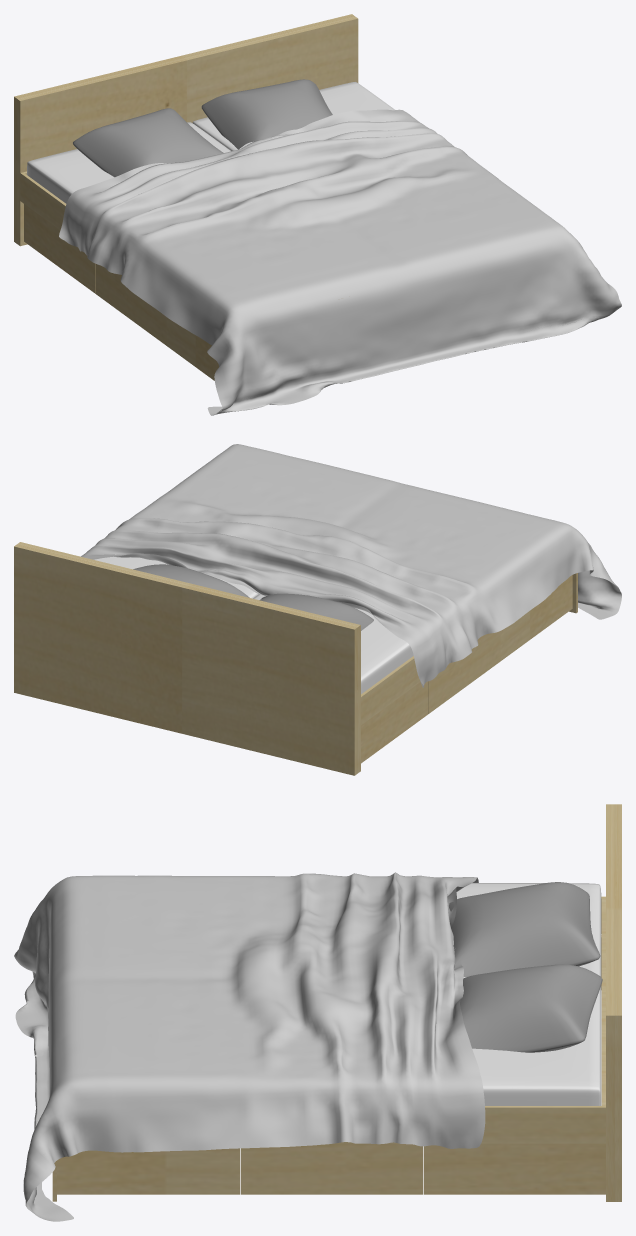
File: bedWithTexture.obj
The picture shows the model from 3 angles, top to bottom: view 1: azimuth 30°, elevation 25°; view 2: azimuth 150°, elevation 25°; view 3: azimuth 270°, elevation 25°; orthographic projection. The views are drawn at different scales.
Visible parts, largest first — view 1: blanket_Plane.000, bed_head_Plane.000, bed_frame_Cube.001, pillow_Cube.000, pillow.001_Cube.000, matress_Cube.000; view 2: blanket_Plane.000, bed_head_Plane.000, bed_frame_Cube.001, matress_Cube.000, pillow_Cube.000, pillow.001_Cube.000; view 3: blanket_Plane.000, bed_frame_Cube.001, pillow_Cube.000, pillow.001_Cube.000, matress_Cube.000, bed_head_Plane.000.
Part boxes in pixels (box(x1,y1,x2,y2)): blanket_Plane.000: box(59, 109, 621, 415); bed_head_Plane.000: box(14, 14, 358, 246); bed_frame_Cube.001: box(20, 171, 218, 380); pillow_Cube.000: box(73, 108, 223, 177); pillow.001_Cube.000: box(201, 79, 332, 149); matress_Cube.000: box(27, 82, 394, 203); blanket_Plane.000: box(81, 444, 621, 687); bed_head_Plane.000: box(14, 542, 360, 775); bed_frame_Cube.001: box(361, 573, 577, 763); matress_Cube.000: box(94, 556, 413, 693); pillow_Cube.000: box(259, 593, 373, 630); pillow.001_Cube.000: box(133, 564, 249, 597); blanket_Plane.000: box(14, 872, 485, 1221); bed_frame_Cube.001: box(52, 896, 605, 1201); pillow_Cube.000: box(449, 882, 600, 976); pillow.001_Cube.000: box(460, 964, 602, 1052); matress_Cube.000: box(456, 883, 601, 1105); bed_head_Plane.000: box(606, 804, 621, 1201).
Bounding box in the file's own units: 0.9923 × 0.338 × 1.
